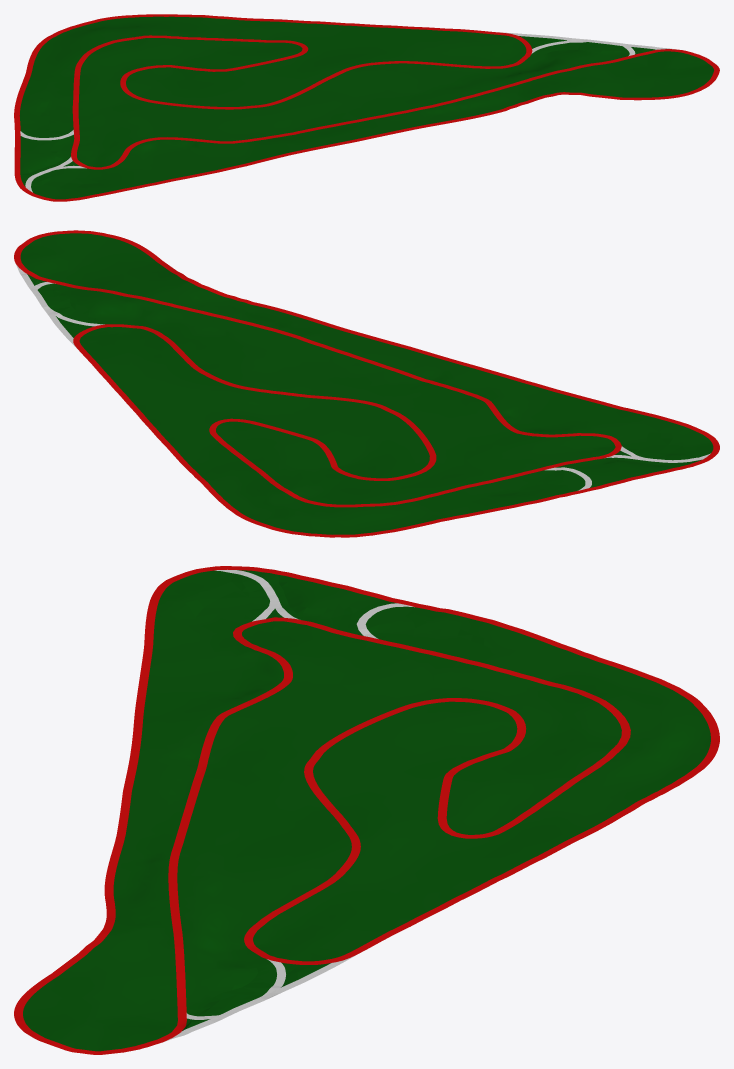
The model's file is slovakiaring_v4.obj.
The picture shows the model from 3 angles, top to bottom: view 1: azimuth 30°, elevation 25°; view 2: azimuth 150°, elevation 25°; view 3: azimuth 270°, elevation 25°; orthographic projection. The views are drawn at different scales.
Visible parts, largest first — view 1: slovakiaring_v4_terrain_kulsoiv_red_obj_v1copy.006; view 2: slovakiaring_v4_terrain_kulsoiv_red_obj_v1copy.006; view 3: slovakiaring_v4_terrain_kulsoiv_red_obj_v1copy.006.
Boxes of the visible parts, left/top/right/bottom form: slovakiaring_v4_terrain_kulsoiv_red_obj_v1copy.006: left=14, top=14, right=719, bottom=201; slovakiaring_v4_terrain_kulsoiv_red_obj_v1copy.006: left=14, top=230, right=719, bottom=537; slovakiaring_v4_terrain_kulsoiv_red_obj_v1copy.006: left=14, top=566, right=719, bottom=1054.
Bounding box in the file's own units: 22.71 × 0.2375 × 13.83.
